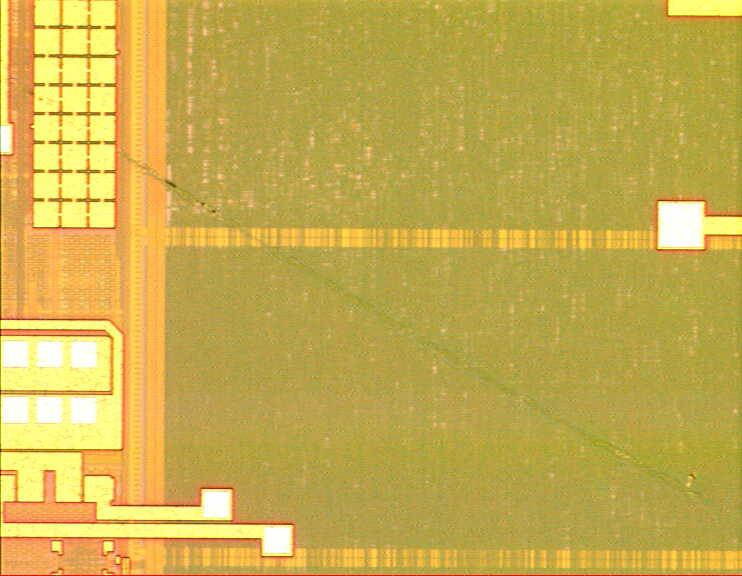SCRATCH: (1, 64, 719, 510)
